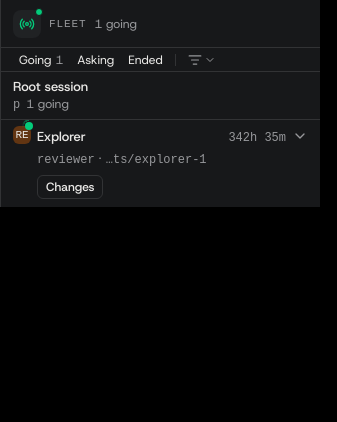
the fleet column › names the branch of an agent that has a worktree
Click the button "RE Explorer 342h 35m" at (61, 136), box x1=13 y1=128 x2=308 y2=146
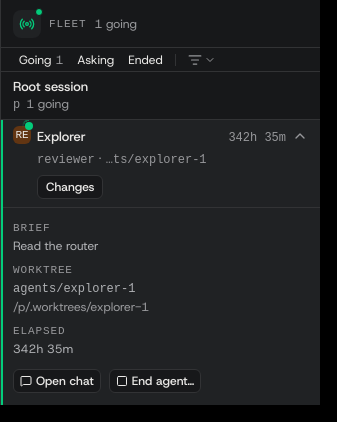
Expected: the element that starts with "Explorer" shows "Worktree", x1=13 y1=264 x2=73 y2=276
Expected: the element that starts with "Explorer" shows "agents/explorer-1", x1=13 y1=282 x2=135 y2=296
